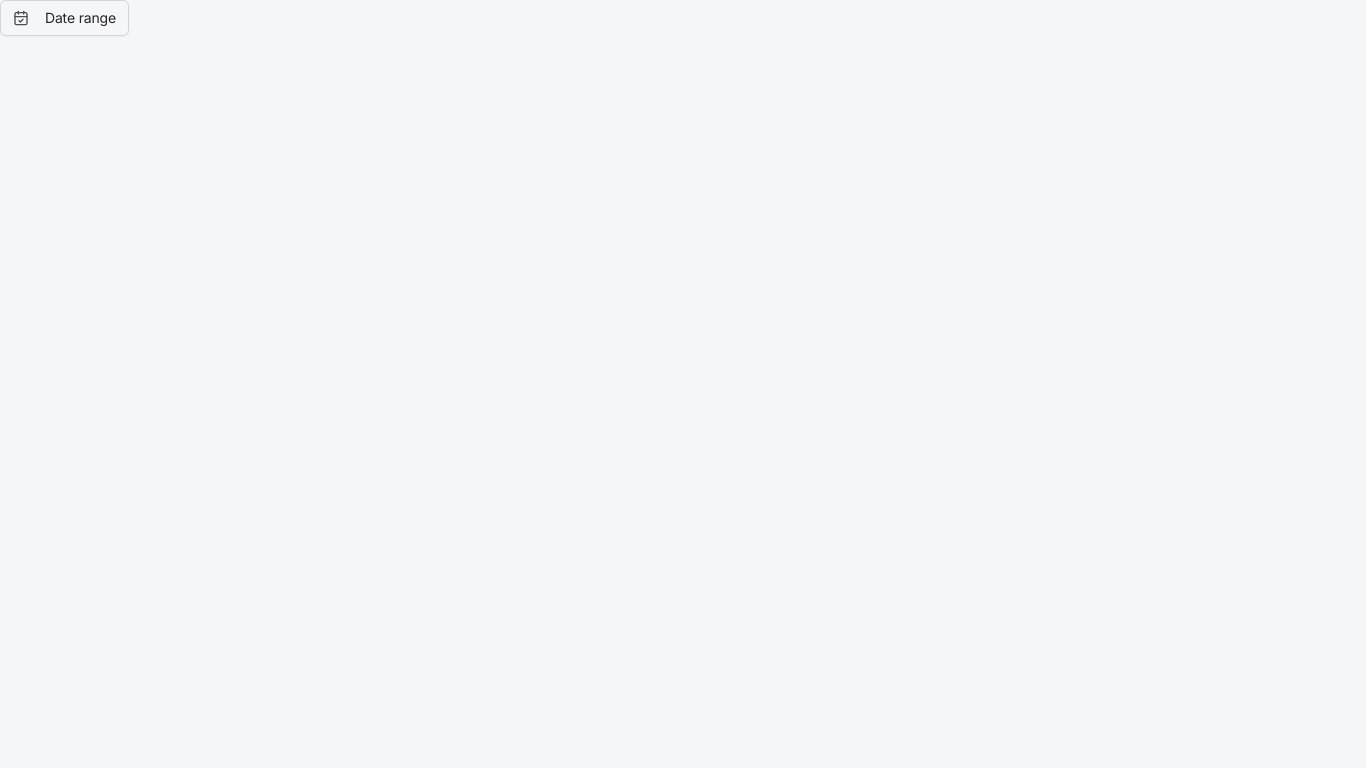
Test case: DateRangePicker › disables Clear when no range is active
This screenshot has width=1366, height=768.
Click the button "Date range" at (64, 18), box [0,0,129,36]
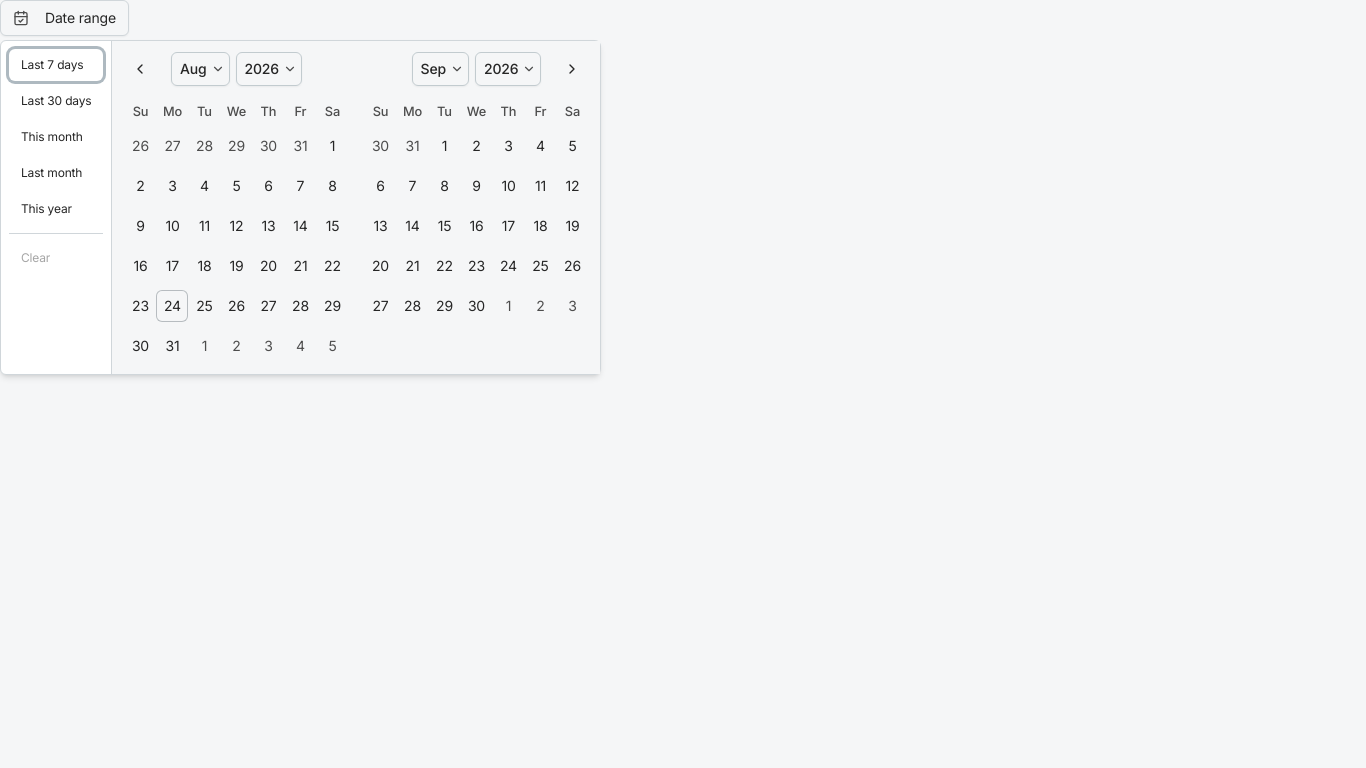
Expected: the button "Clear" is disabled, [9,242,104,274]
